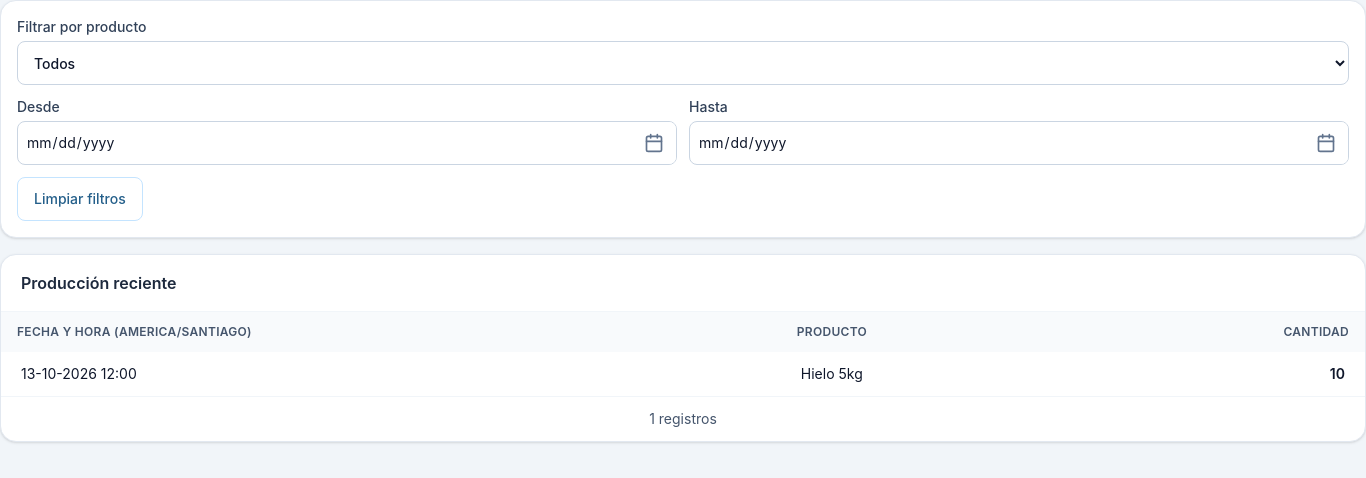
Test case: F3 · ProduccionReciente › limpiar filtros vuelve a la lista reciente
Select "Agua 20L" in the dropdown labelled "Filtrar por producto" at (683, 63), box [17, 41, 1349, 85]
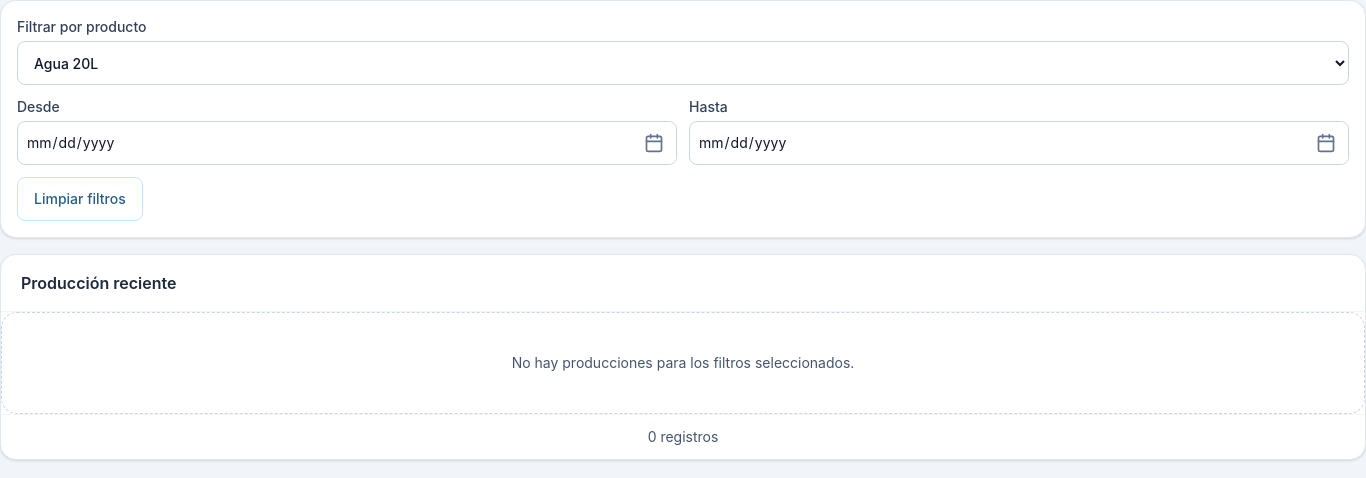
Expected: the text "No hay producciones para los filtros seleccionados." is shown, [512, 353, 854, 373]
Click the button "Limpiar filtros" at (80, 199), box [17, 177, 143, 221]
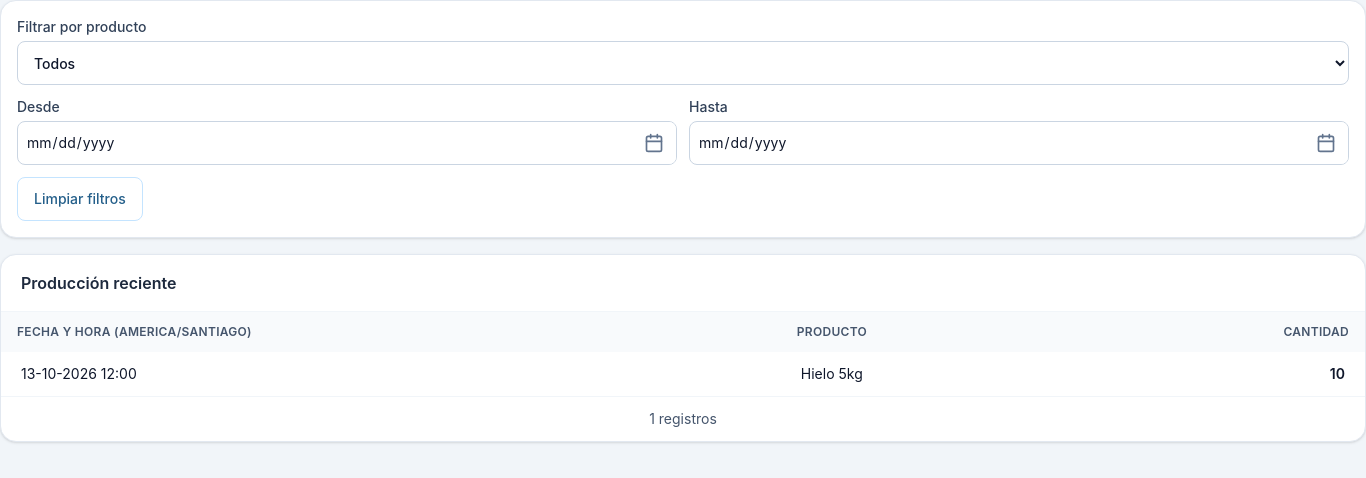
Expected: the text "Hielo 5kg" is shown, [781, 352, 1080, 396]
